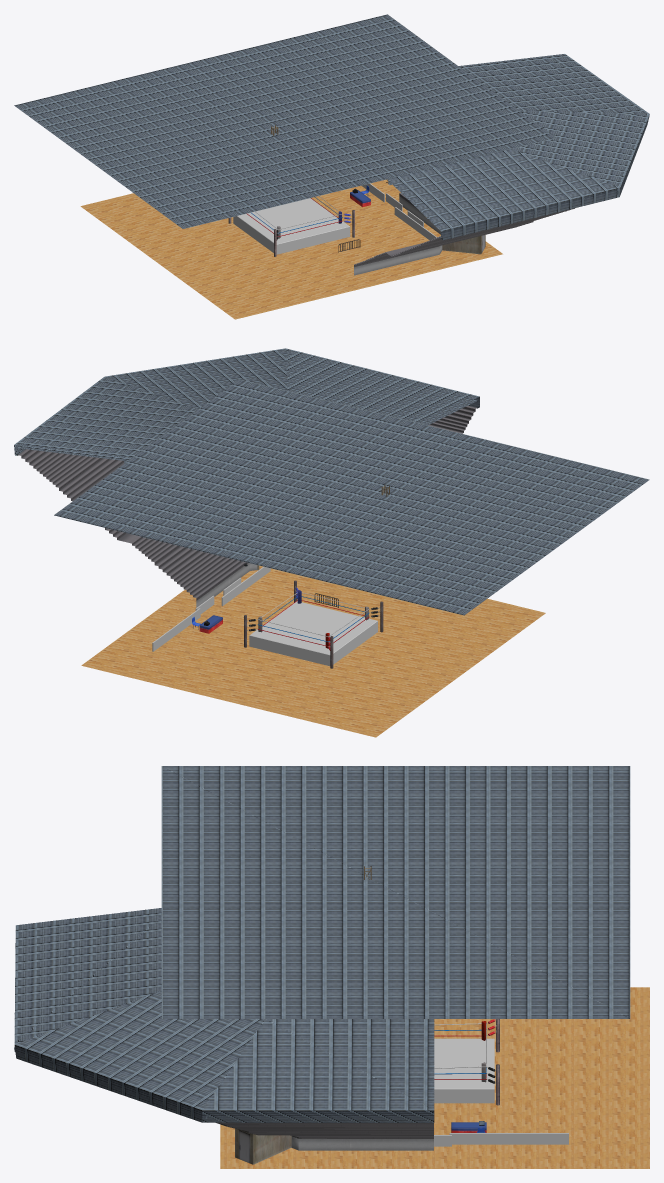
File: Boxing_ring_Stadium.fbx
The picture shows the model from 3 angles, top to bottom: view 1: azimuth 30°, elevation 25°; view 2: azimuth 150°, elevation 25°; view 3: azimuth 270°, elevation 25°; orthographic projection. The views are drawn at different scales.
Parts seen in each view (by area): view 1: Rooftop, Roof_10, Floor, Boxing_ring_1_5, Steps, polySurface30; view 2: Rooftop, Floor, Roof_10, Steps, Boxing_ring_1_5; view 3: Rooftop, Roof_10, Floor, Steps, Boxing_ring_1_5, Ads_boards2, polySurface30.
Part boxes in pixels (x1=…): Rooftop: x1=14, y1=14, x2=555, y2=228; Roof_10: x1=387, y1=54, x2=649, y2=240; Floor: x1=80, y1=179, x2=502, y2=319; Boxing_ring_1_5: x1=233, y1=198, x2=350, y2=254; Steps: x1=354, y1=193, x2=574, y2=275; polySurface30: x1=442, y1=235, x2=485, y2=254; Rooftop: x1=54, y1=379, x2=649, y2=615; Floor: x1=81, y1=565, x2=545, y2=737; Roof_10: x1=14, y1=348, x2=479, y2=461; Steps: x1=18, y1=405, x2=476, y2=607; Boxing_ring_1_5: x1=249, y1=601, x2=377, y2=666; Rooftop: x1=161, y1=766, x2=630, y2=1018; Roof_10: x1=14, y1=908, x2=434, y2=1122; Floor: x1=220, y1=987, x2=649, y2=1168; Steps: x1=216, y1=1122, x2=433, y2=1150; Boxing_ring_1_5: x1=434, y1=1038, x2=494, y2=1103; Ads_boards2: x1=449, y1=1133, x2=568, y2=1144; polySurface30: x1=235, y1=1128, x2=291, y2=1164.
Size of the model in its own units: 17761 by 4661 by 14644.
